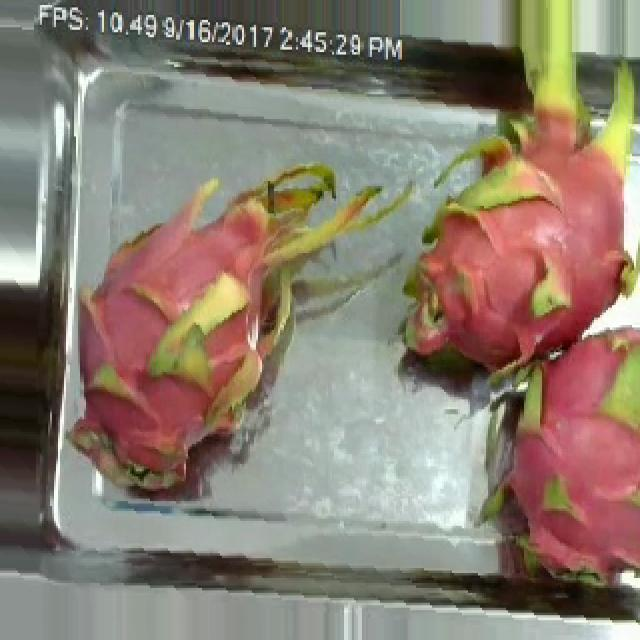Fruit: (0, 253, 66, 449)
